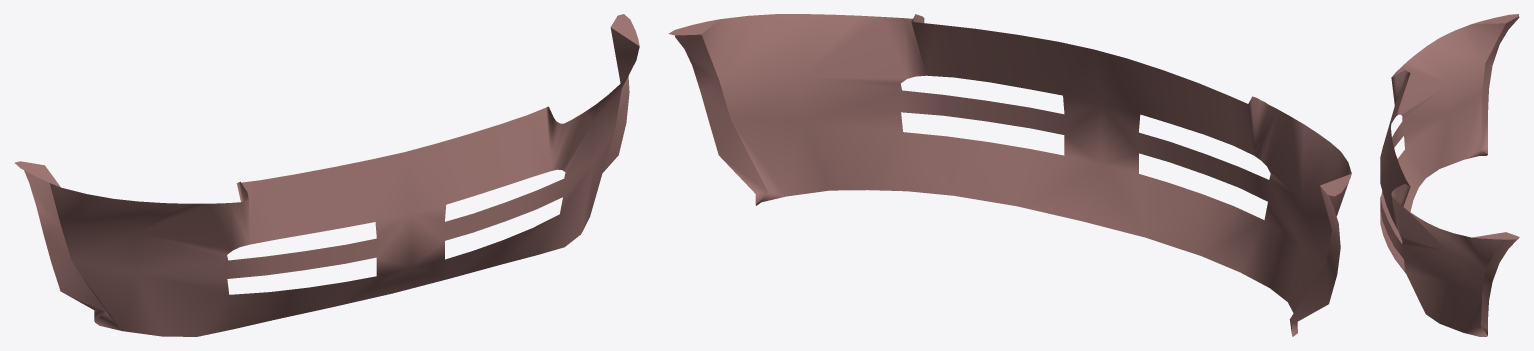
File: Viper_FB_01_Trim.fbx
The picture shows the model from 3 angles, left to right: view 1: azimuth 30°, elevation 25°; view 2: azimuth 150°, elevation 25°; view 3: azimuth 270°, elevation 25°; orthographic projection. The views are drawn at different scales.
Visible parts, largest first — view 1: Viper_FB_01_Trim; view 2: Viper_FB_01_Trim; view 3: Viper_FB_01_Trim.
Boxes of the visible parts, x1,y1,x2,y2 form: Viper_FB_01_Trim: (14,14,639,336); Viper_FB_01_Trim: (668,14,1351,336); Viper_FB_01_Trim: (1380,14,1519,336).
Bounding box in the file's own units: 182 × 45.19 × 47.58.
